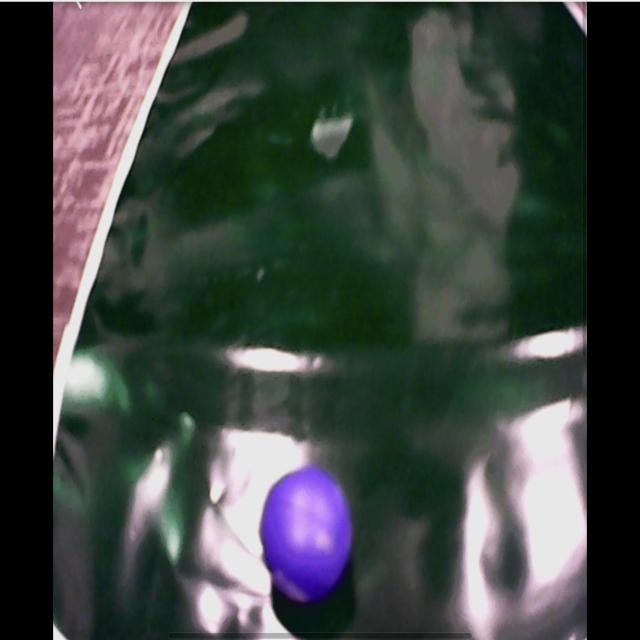ball: (260, 467, 351, 600)
